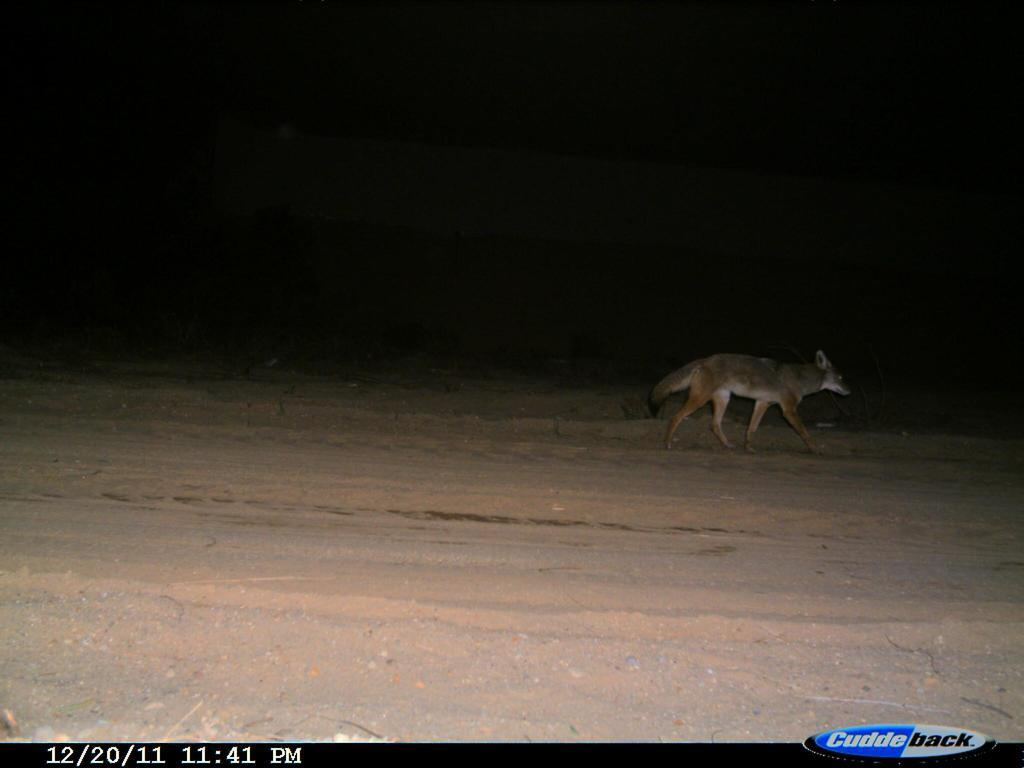coyote: (638, 341, 862, 463)
